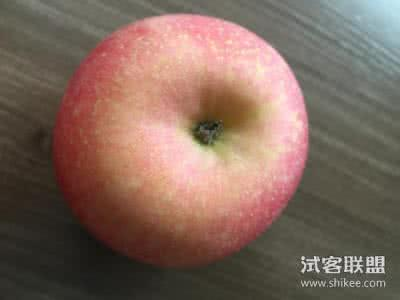apple: (55, 9, 305, 267)
